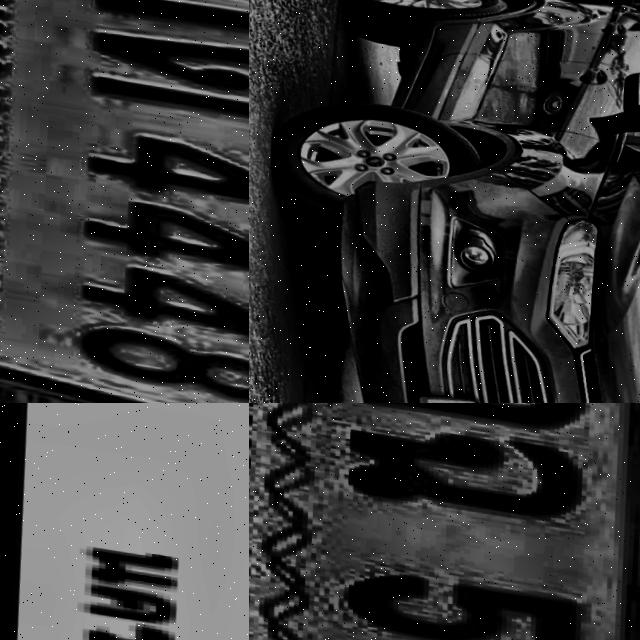license-plate: (0, 0, 249, 403), (249, 403, 640, 640), (0, 403, 249, 640), (399, 380, 497, 403)
